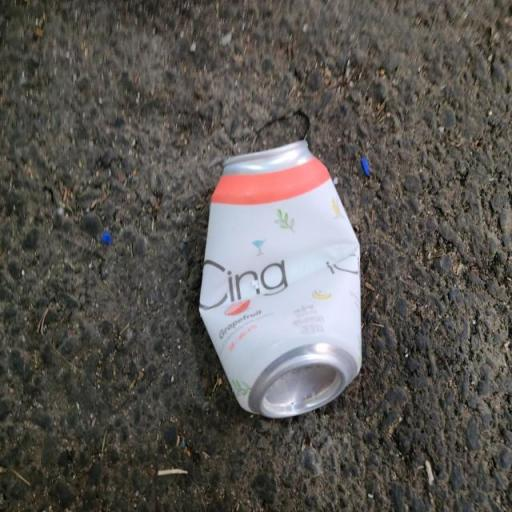metal: (158, 86, 398, 460)
